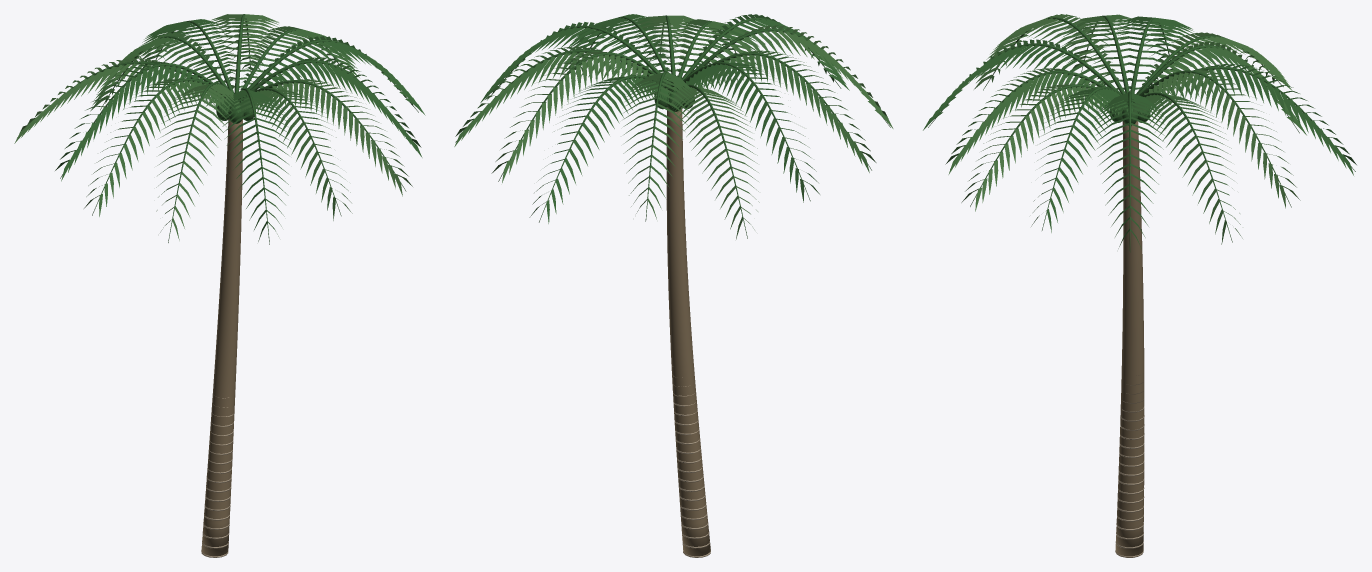
The model's file is palm.glb.
3 views of the same model, side by side, from view 1: azimuth 30°, elevation 25°; view 2: azimuth 150°, elevation 25°; view 3: azimuth 270°, elevation 25° (orthographic). The views are drawn at different scales.
Visible parts, largest first — view 1: palm / Palm leaf 00, palm / Ringed palm bark, palm / Palm leaf 02, palm / Palm leaf 01, palm / Sandstone plinth; view 2: palm / Palm leaf 00, palm / Ringed palm bark, palm / Palm leaf 02, palm / Palm leaf 01, palm / Sandstone plinth; view 3: palm / Palm leaf 00, palm / Ringed palm bark, palm / Palm leaf 02, palm / Palm leaf 01, palm / Sandstone plinth.
Part boxes in pixels (x1=…): palm / Palm leaf 00: x1=17, y1=14, x2=425, y2=244; palm / Ringed palm bark: x1=201, y1=119, x2=242, y2=556; palm / Palm leaf 02: x1=14, y1=14, x2=412, y2=240; palm / Palm leaf 01: x1=84, y1=26, x2=359, y2=220; palm / Sandstone plinth: x1=201, y1=397, x2=234, y2=557; palm / Palm leaf 00: x1=455, y1=14, x2=890, y2=238; palm / Ringed palm bark: x1=666, y1=107, x2=710, y2=556; palm / Palm leaf 02: x1=491, y1=15, x2=893, y2=239; palm / Palm leaf 01: x1=454, y1=19, x2=876, y2=219; palm / Sandstone plinth: x1=672, y1=366, x2=710, y2=557; palm / Palm leaf 00: x1=923, y1=15, x2=1356, y2=252; palm / Ringed palm bark: x1=1115, y1=121, x2=1144, y2=557; palm / Palm leaf 02: x1=961, y1=14, x2=1300, y2=211; palm / Palm leaf 01: x1=945, y1=14, x2=1306, y2=244; palm / Sandstone plinth: x1=1115, y1=375, x2=1144, y2=557.
Bounding box in the file's own units: 9.09 × 12.12 × 9.33.
